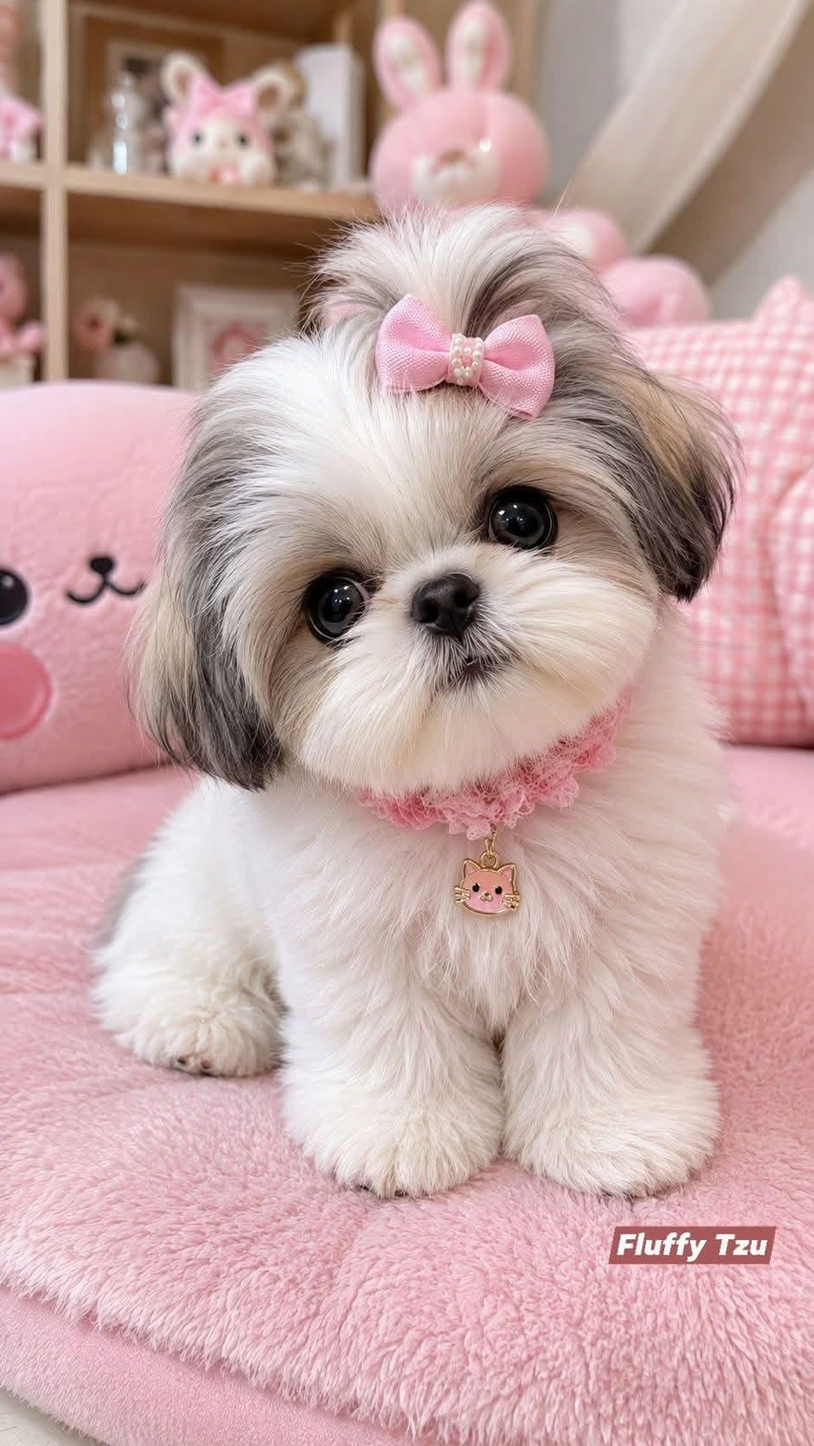puppy-dog: (86, 195, 744, 1210)
